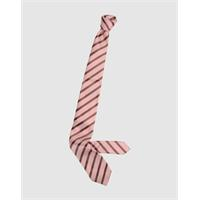tie: (69, 14, 130, 184)
